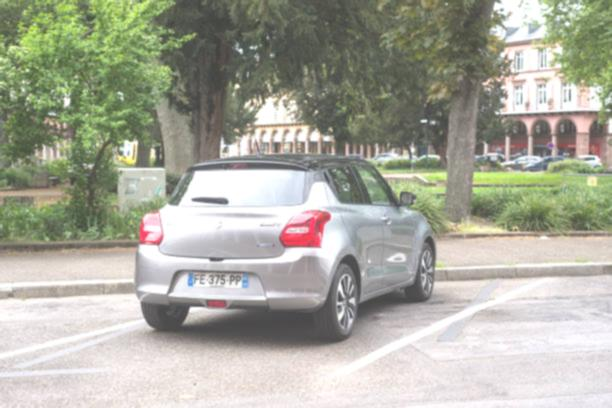suzuki: (210, 215, 227, 233)
